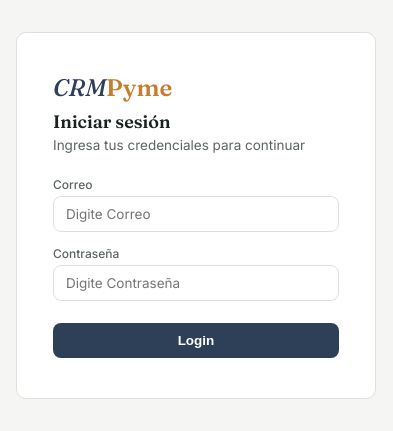
Test: LoginPage — login fallido › CP-08: credenciales inválidas (401) muestran el mensaje del backend
Type "admin@crm.local" into the field labelled "Correo" at (196, 214), box [53, 196, 339, 232]
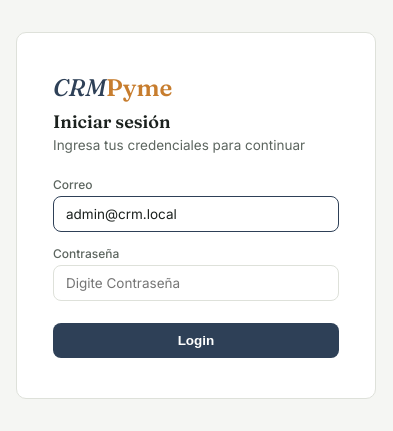
Type "claveMala" into the password field labelled "Contraseña" at (196, 282), box [53, 264, 339, 300]
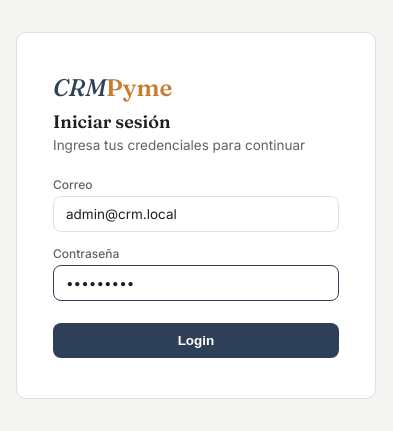
Click the button "Login" at (196, 340), box [53, 322, 339, 358]
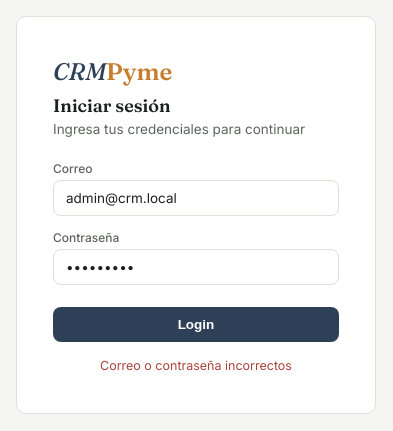
Expected: the heading "Iniciar sesión" is shown, [53, 94, 170, 117]
Result: the text "Correo o contraseña incorrectos" is shown at [100, 358, 292, 373]
